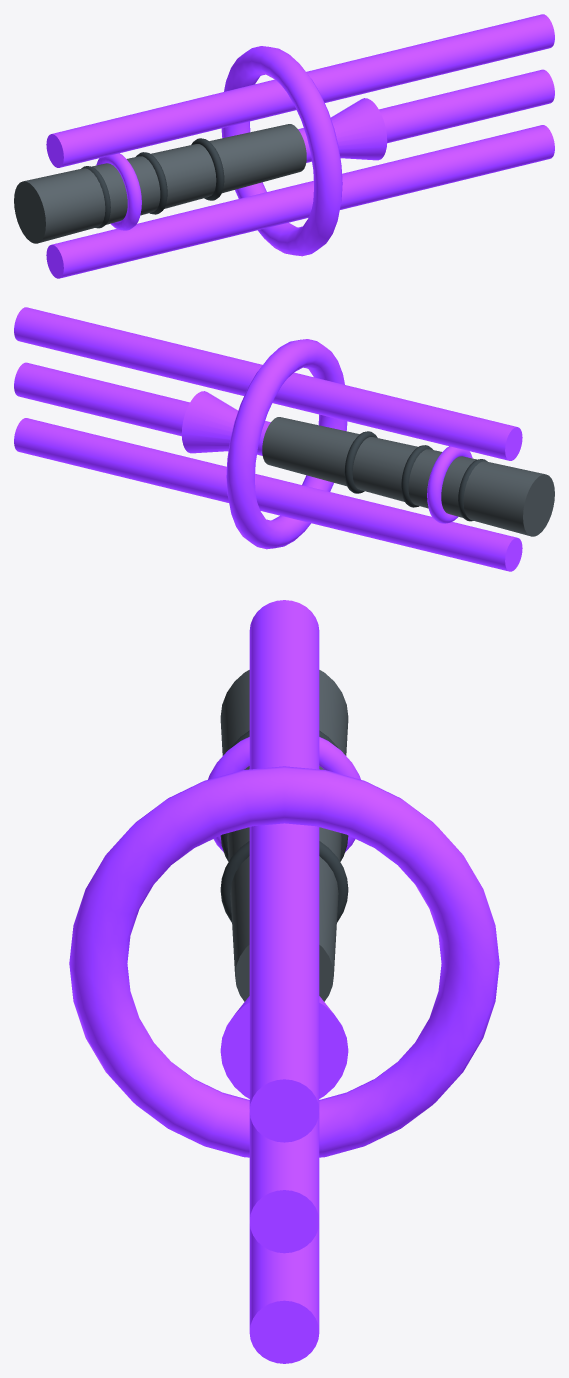
Rendered from shot.glb.
The picture shows the model from 3 angles, top to bottom: view 1: azimuth 30°, elevation 25°; view 2: azimuth 150°, elevation 25°; view 3: azimuth 270°, elevation 25°; orthographic projection. The views are drawn at different scales.
Size of the model in its own units: 4.1 by 1.48 by 1.48.
